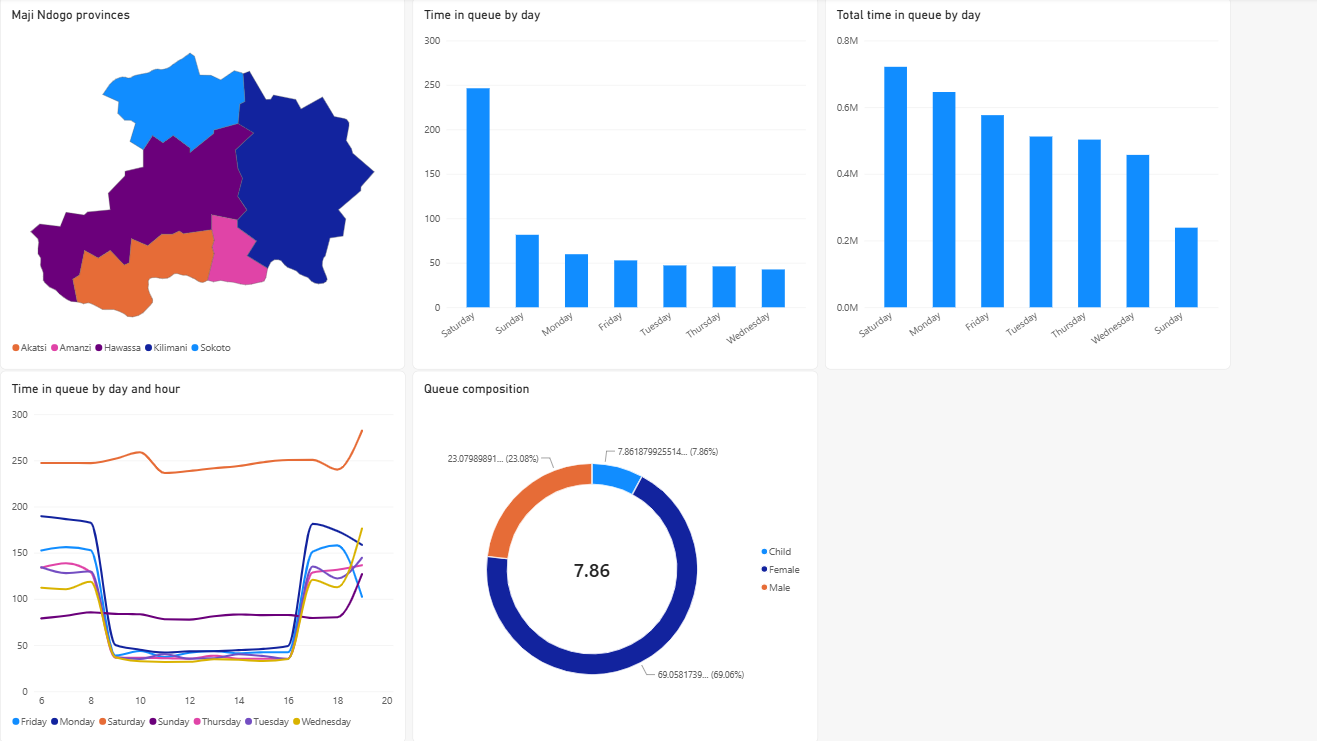

The dashboard page shown, as its layout file describes it:
{"tool":"powerbi","page":{"name":"Queues","canvas":[1920,1080],"ordinal":1},"visuals":[{"type":"shapeMap","title":"Maji Ndogo provinces","fields":{"Category":["location.province_name"],"Series":["location.province_name"]},"box":[0,0,586.6,539.3],"z":0},{"type":"lineChart","title":"Time in queue by day and hour","fields":{"Category":["visits.Hour"],"Series":["visits.day_name"],"Y":["Avg(visits.time_in_queue)"]},"box":[0,541.3,587,539],"z":1000},{"type":"clusteredColumnChart","title":"Time in queue by day","fields":{"Category":["visits.day_name"],"Y":["Avg(visits.time_in_queue)"]},"box":[597,0,587,539],"z":2000},{"type":"donutChart","title":"Queue composition","fields":{"Y":["Avg(queue_composition.percent_child)","Avg(queue_composition.percent_female)","Avg(queue_composition.percent_male)"]},"box":[597,541,587,539],"z":3000},{"type":"clusteredColumnChart","title":"Total time in queue by day","fields":{"Category":["visits.day_name"],"Y":["Sum(visits.time_in_queue)"]},"box":[1194,0,587,539],"z":4000}]}

Visuals, with their boxes in screenshot pixels (x1, y1, x2, y2), scaled from the page's 1920x1080 canvas onto the 1317x741 screenshot:
"Maji Ndogo provinces" shapeMap: 0/0/402/370
"Time in queue by day and hour" lineChart: 0/371/403/740
"Time in queue by day" clusteredColumnChart: 410/0/812/370
"Queue composition" donutChart: 410/371/812/740
"Total time in queue by day" clusteredColumnChart: 819/0/1222/370
